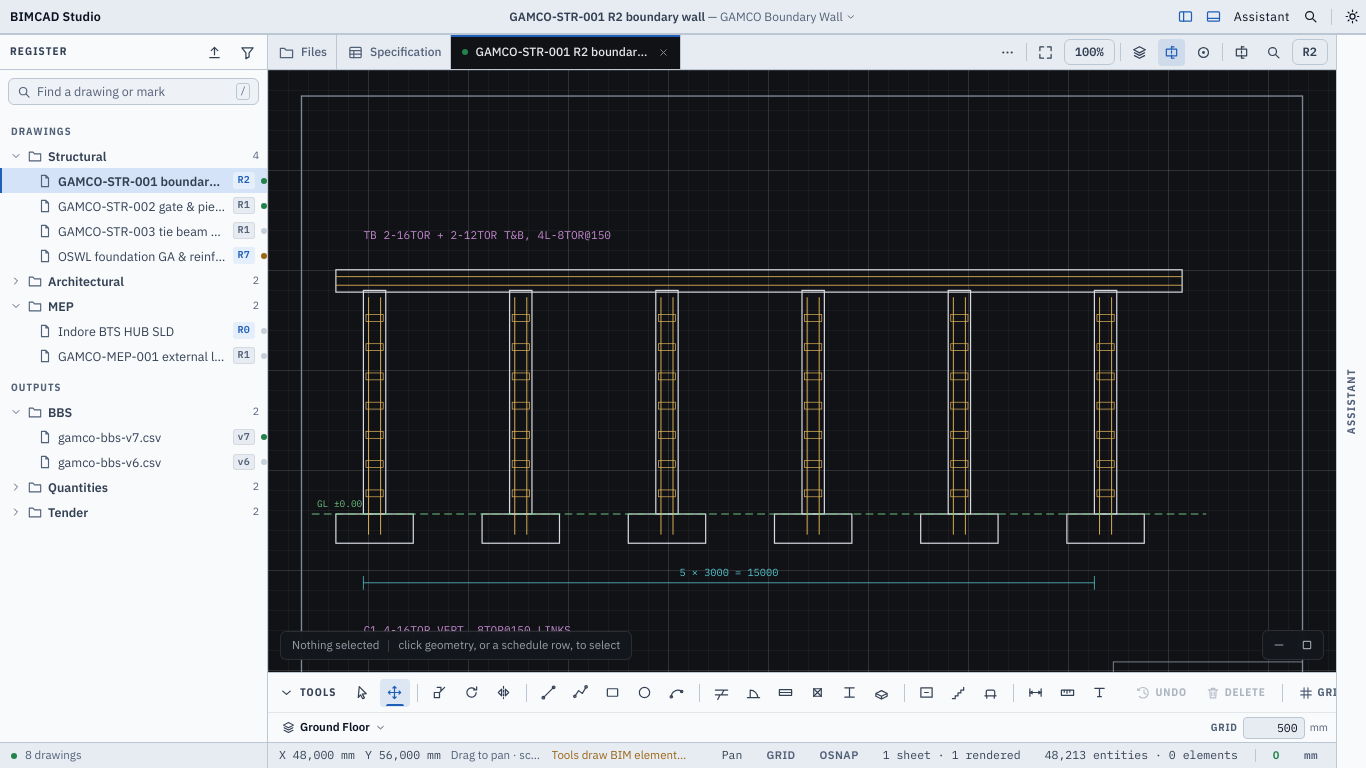
Test case: the Library arms the tools that cannot work without it (§8.6) › clearing the armed item hands the size back to the field
The width and height of the screenshot is (1366, 768).
Click the button named "Door".
click(754, 692)  # box [738,678,768,706]
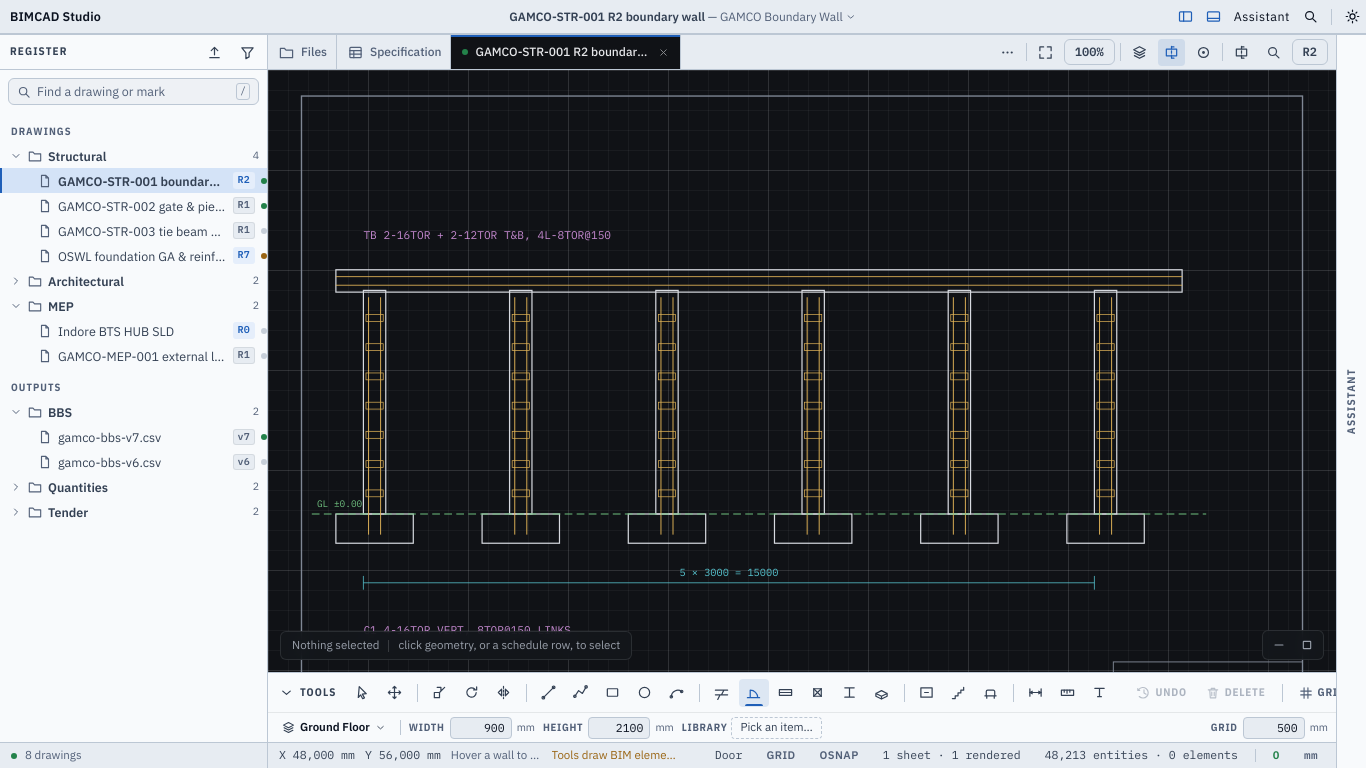
Click the button with test id "armed-item".
click(777, 728)  # box [732,716,822,738]
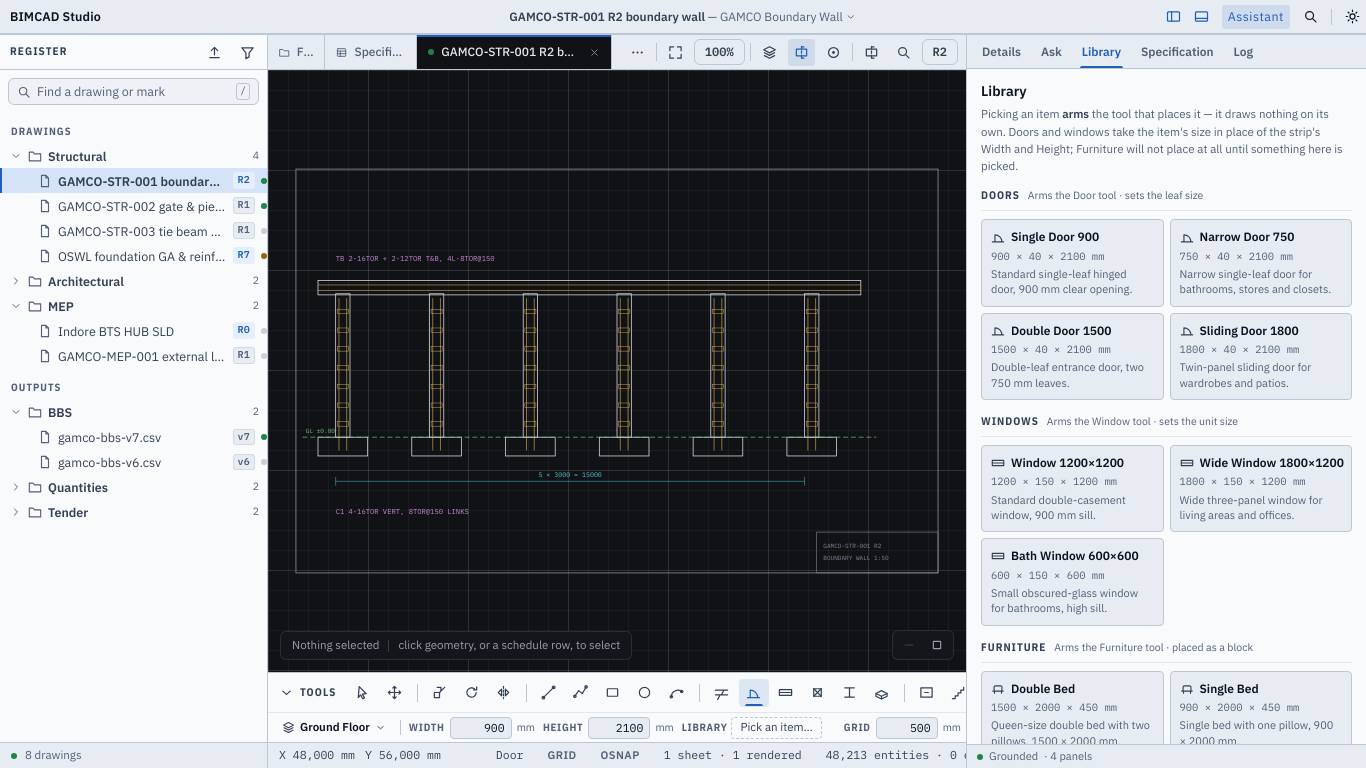
Click the button "Narrow Door 750".
click(1261, 263)  # box [1170,219,1352,307]
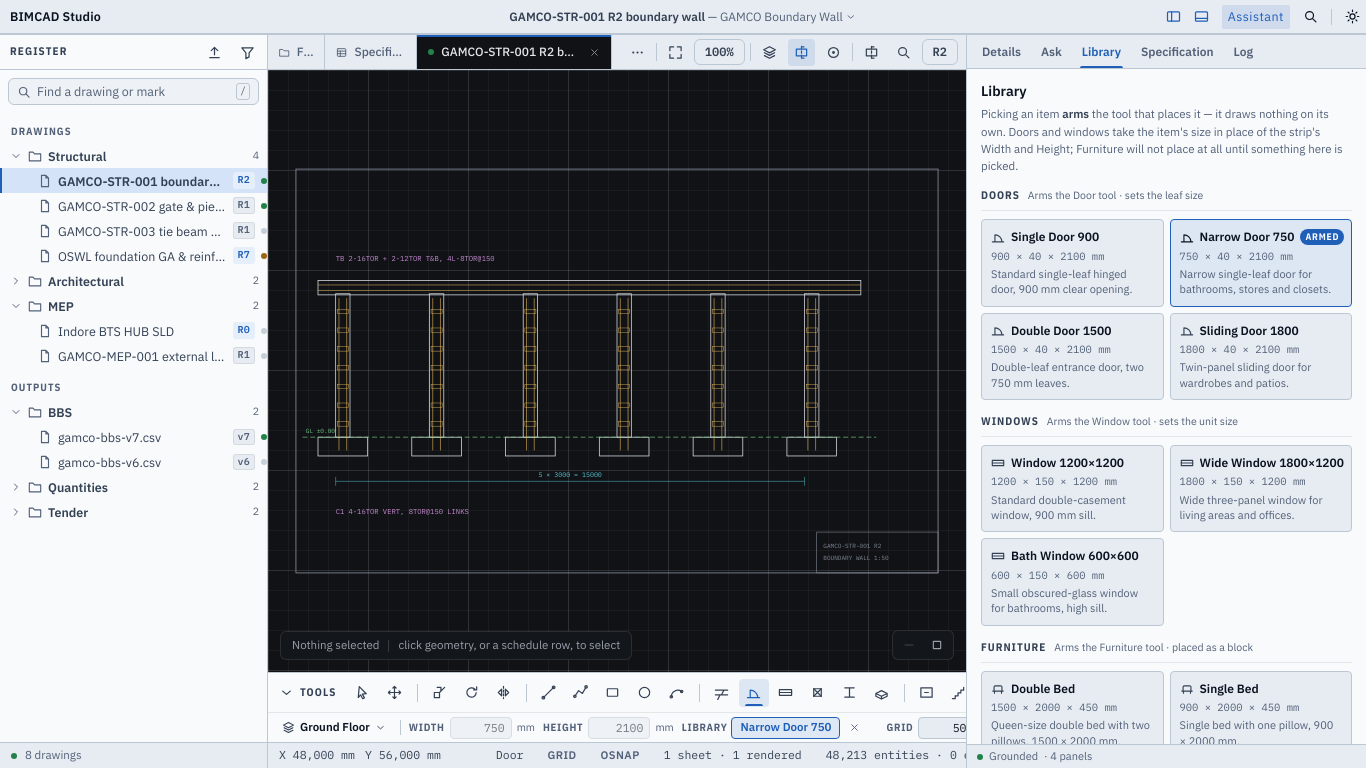
expect the field named "Width (mm)" is disabled: met, box [450,716,512,738]
Click the button named "Clear the armed library item".
click(854, 728)  # box [844,718,864,738]
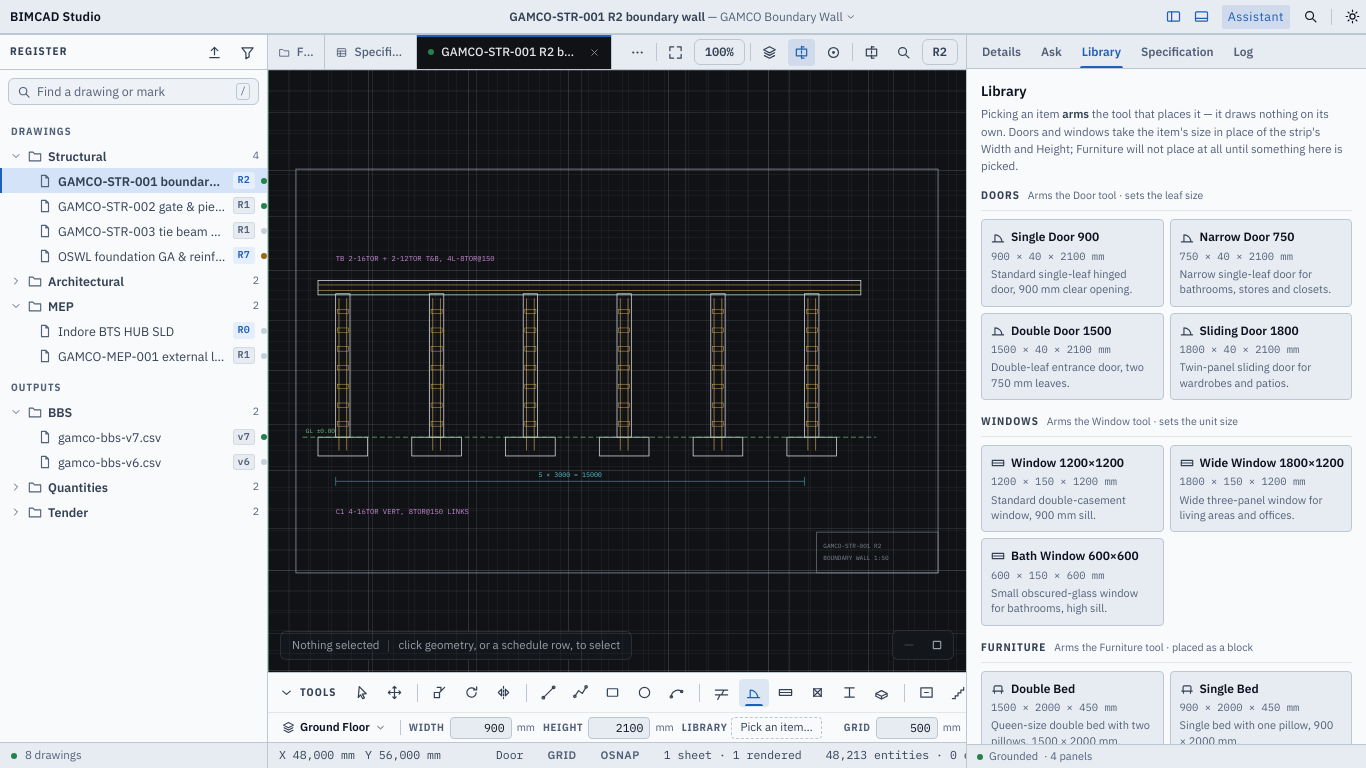
expect the field named "Width (mm)" is enabled: met, box [450,716,512,738]
expect the field named "Width (mm)" holds "900": met, box [450,716,512,738]
